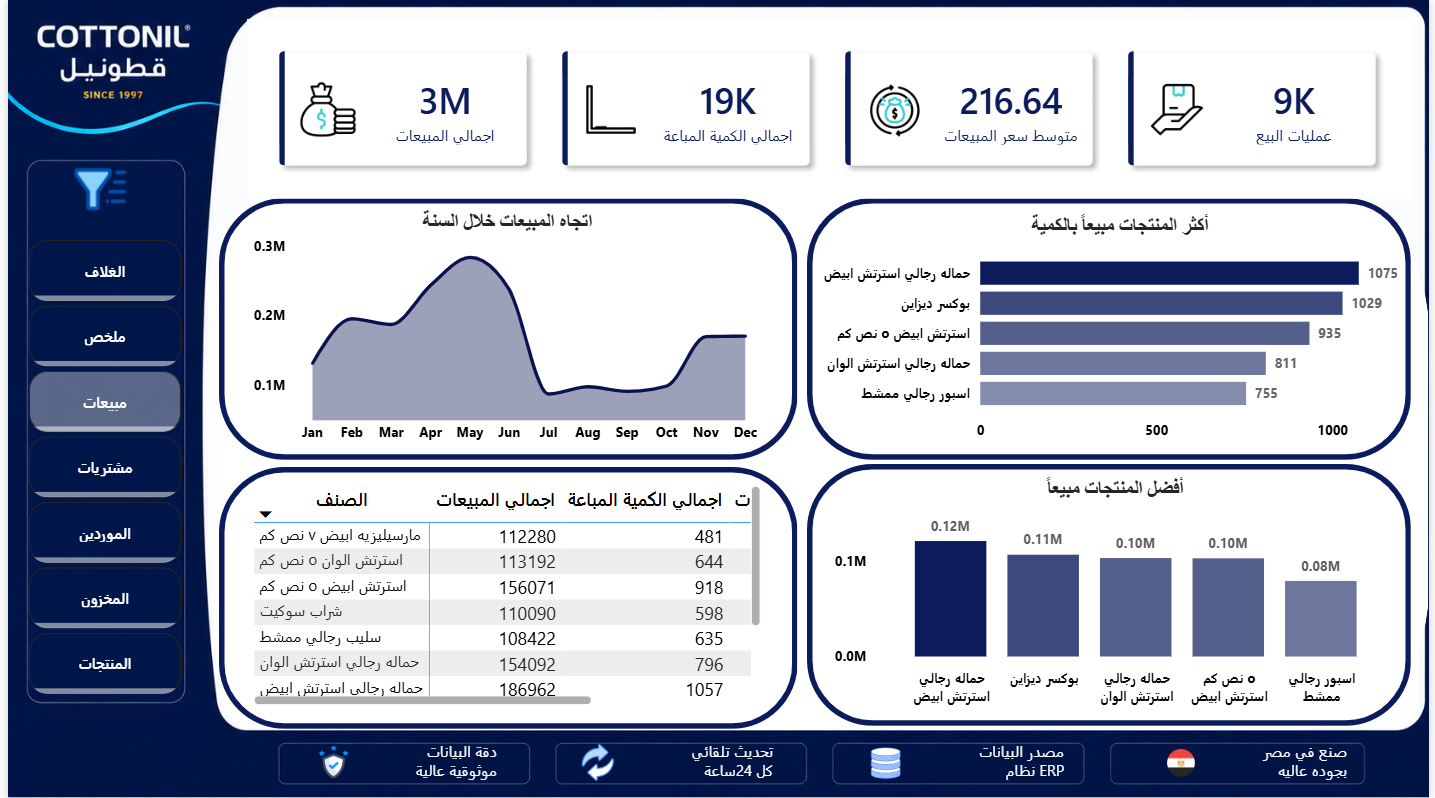

What the dashboard file says about the page in this screenshot:
{"tool":"powerbi","page":{"name":"مبيعات","canvas":[1280,720],"ordinal":2},"visuals":[{"type":"shape","box":[193.5,171.3,1086.5,486.8],"z":0},{"type":"shape","box":[189.5,161.3,1086.5,486.8],"z":1000},{"type":"shape","box":[190,178.5,521.4,235.9],"z":2000},{"type":"shape","box":[720.3,418.2,544.4,235.9],"z":3000},{"type":"shape","box":[720.3,178.5,544.4,235.9],"z":4000},{"type":"shape","box":[190,420.7,521.4,235.9],"z":5000},{"type":"cardVisual","fields":{"Data":["-measure.اجمالي المبيعات","-measure.اجمالي الكمية المباعة","-measure.متوسط سعر المبيعات","-measure.عمليات البيع"]},"box":[215.7,17,1049.2,161.8],"z":6000},{"type":"textbox","box":[358.6,663.2,90.8,46.4],"z":8000},{"type":"textbox","box":[603.6,663.2,90.8,46.4],"z":9000},{"type":"textbox","box":[865.6,663.2,90.8,46.4],"z":10000},{"type":"textbox","box":[1121.1,663.2,90.8,46.4],"z":11000},{"type":"image","box":[1043.5,674.5,27.4,24.6],"z":12000},{"type":"image","box":[274.4,671.7,38.8,30.3],"z":13000},{"type":"image","box":[509.9,669.8,43.5,35],"z":14000},{"type":"image","box":[752.1,673.6,76.6,29.3],"z":15000},{"type":"clusteredColumnChart","title":"أفضل المنتجات مبيعاً","fields":{"Category":["fact -> المشتريات.الصنف"],"Y":["Sum(fact sales -> المبيعات.السعر)"]},"box":[740.2,430.1,516.1,212.8],"z":16000},{"type":"clusteredBarChart","title":"أكثر المنتجات مبيعاً بالكمية","fields":{"Category":["fact -> المشتريات.الصنف"],"Y":["Sum(fact sales -> المبيعات.الكميه المباعه)"]},"box":[727.7,192.4,547.8,212.8],"z":17000},{"type":"areaChart","title":"اتجاه المبيعات خلال السنة","fields":{"Category":["dim date.اسم الشهر"],"Y":["Sum(fact sales -> المبيعات.السعر)"]},"box":[216.6,189.2,467.3,218.5],"z":18000},{"type":"pivotTable","fields":{"Rows":["fact -> المشتريات.الصنف"],"Values":["-measure.اجمالي المبيعات","-measure.اجمالي الكمية المباعة","-measure.متوسط سعر المبيعات"]},"box":[216.6,432.3,467.3,208.1],"z":19000},{"type":"pageNavigator","box":[19,216.5,137.7,409],"z":20000},{"type":"actionButton","box":[53.2,140.3,70.2,60],"z":21000}]}

Visuals, with their boxes on the page's 1280x720 design canvas (x1, y1, x2, y2). These are canvas units, not pixel positions in the 1435x798 screenshot, which may show the page scaled, cropped or inside an application window:
shape: (194, 171, 1280, 658)
shape: (190, 161, 1276, 648)
shape: (190, 178, 711, 414)
shape: (720, 418, 1265, 654)
shape: (720, 178, 1265, 414)
shape: (190, 421, 711, 657)
cardVisual - -measure.اجمالي المبيعات x -measure.اجمالي الكمية المباعة: (216, 17, 1265, 179)
textbox: (359, 663, 449, 710)
textbox: (604, 663, 694, 710)
textbox: (866, 663, 956, 710)
textbox: (1121, 663, 1212, 710)
image: (1044, 674, 1071, 699)
image: (274, 672, 313, 702)
image: (510, 670, 553, 705)
image: (752, 674, 829, 703)
"أفضل المنتجات مبيعاً" clusteredColumnChart: (740, 430, 1256, 643)
"أكثر المنتجات مبيعاً بالكمية" clusteredBarChart: (728, 192, 1276, 405)
"اتجاه المبيعات خلال السنة" areaChart: (217, 189, 684, 408)
pivotTable - fact -> المشتريات.الصنف x -measure.اجمالي المبيعات: (217, 432, 684, 640)
pageNavigator: (19, 216, 157, 626)
actionButton: (53, 140, 123, 200)
